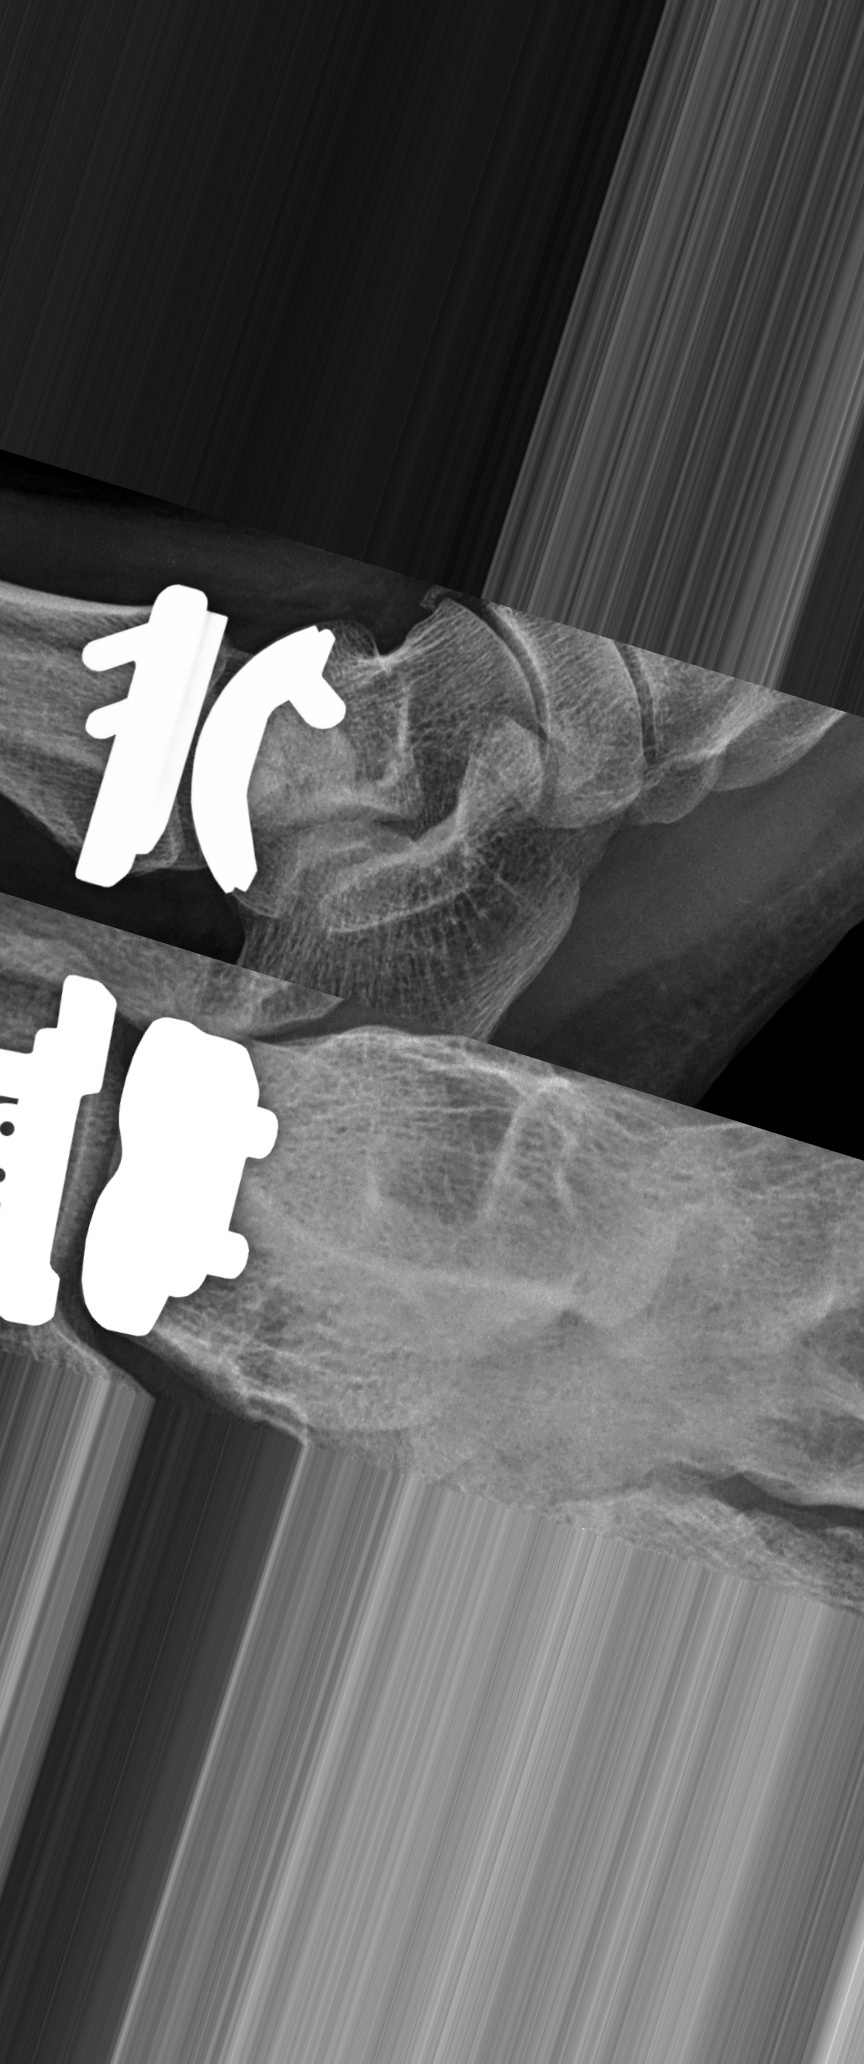Cadence-Integra: (1, 971, 279, 1374), (61, 569, 360, 924)
